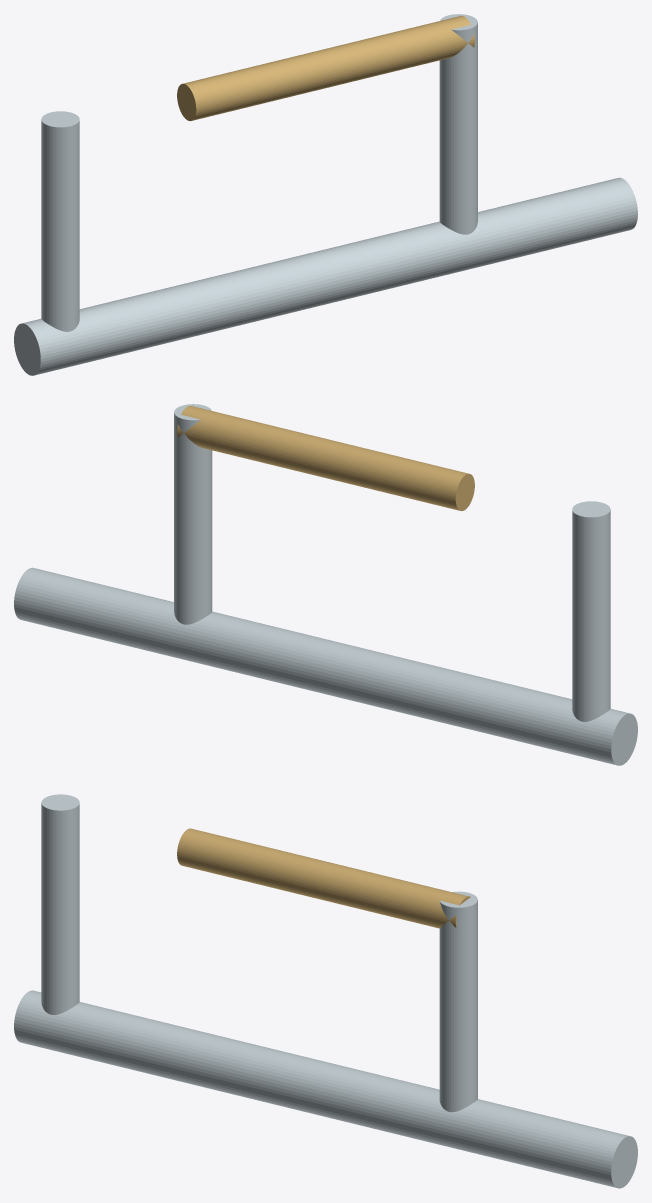
The model's file is circuit.glb.
3 renders of one model, top to bottom at view 1: azimuth 30°, elevation 25°; view 2: azimuth 150°, elevation 25°; view 3: azimuth 330°, elevation 25°, orthographic.
Bounding box in the file's own units: 0.9 × 0.36 × 0.07.
